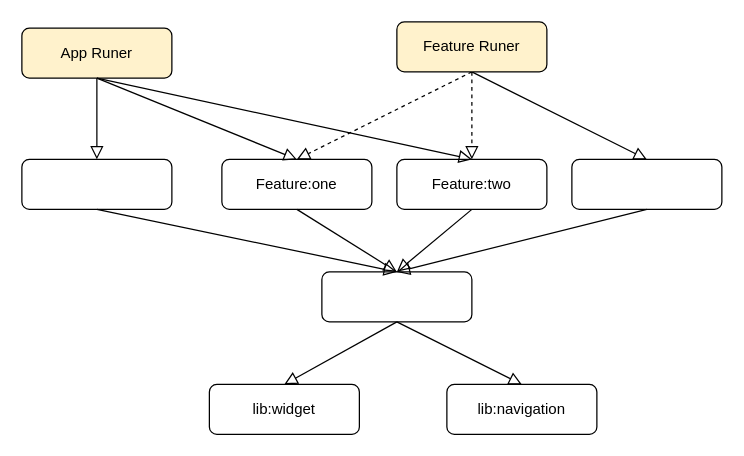
Image size: 744x456. Some labels were removed from this diagram. Each missing label, with the centre of its shape:
"App" belongs at point 96,183.
"core" belongs at point 396,296.
"MockApp" belongs at point 646,183.
